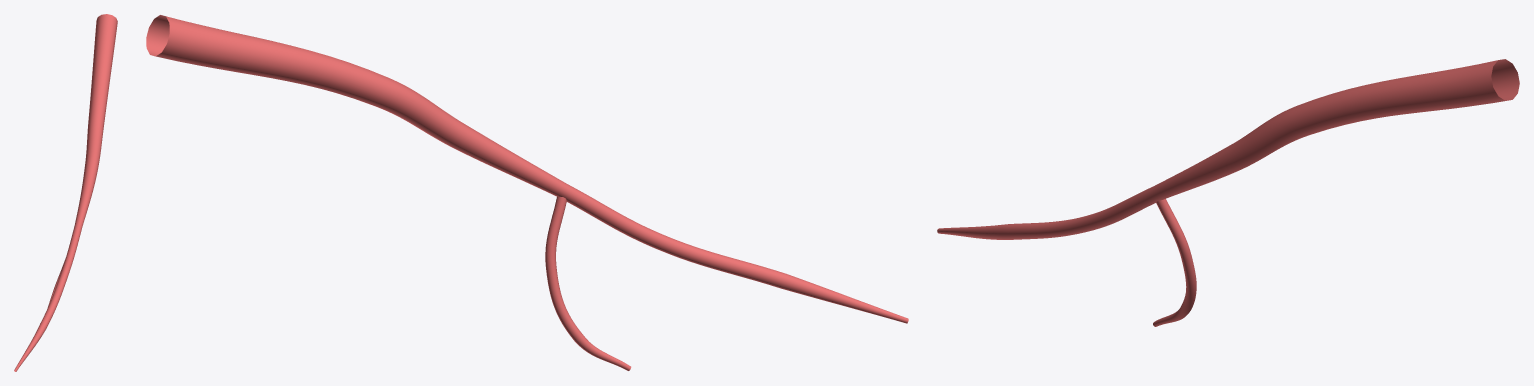
Rendered from Inferior_labial_artery.l_BezierCurve.109.glb.
3 renders of one model, left to right at view 1: azimuth 30°, elevation 25°; view 2: azimuth 150°, elevation 25°; view 3: azimuth 270°, elevation 25°, orthographic. The views are drawn at different scales.
Parts seen in each view (by area): view 1: Inferior_labial_artery.l_BezierCurve.109; view 2: Inferior_labial_artery.l_BezierCurve.109; view 3: Inferior_labial_artery.l_BezierCurve.109.
Part boxes in pixels (x1,y1,x2,y2): Inferior_labial_artery.l_BezierCurve.109: [14, 14, 117, 371]; Inferior_labial_artery.l_BezierCurve.109: [146, 15, 908, 370]; Inferior_labial_artery.l_BezierCurve.109: [937, 59, 1519, 326].
Size of the model in its own units: 0.0208 by 0.0168 by 0.0217.
